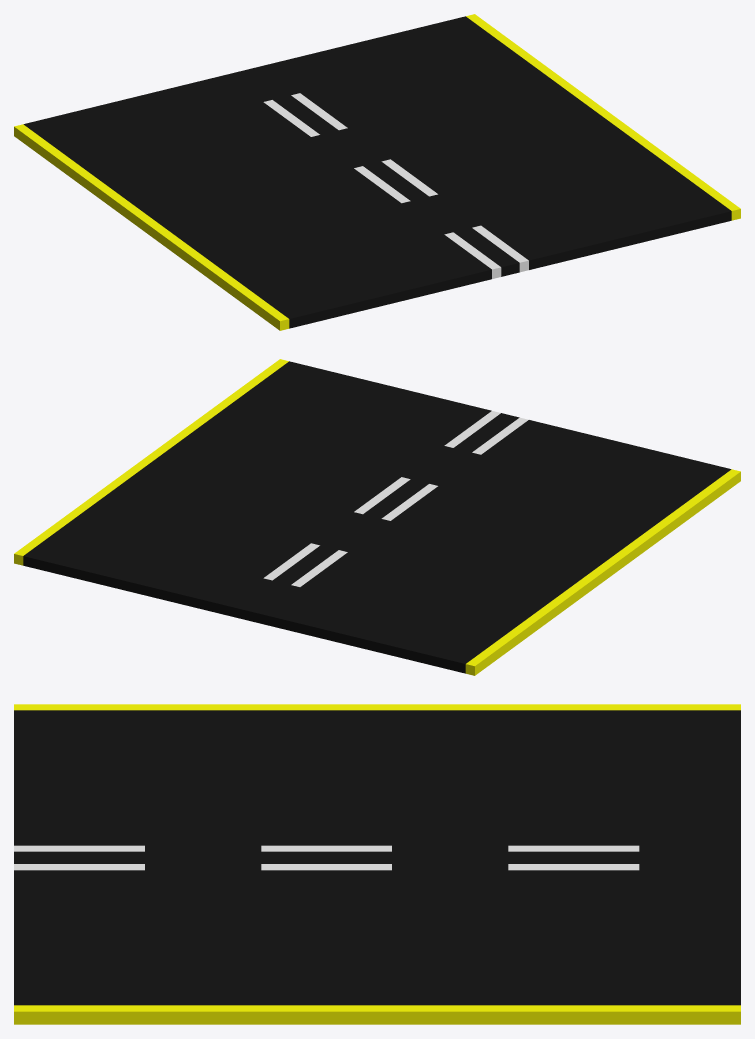
File: road.obj
3 renders of one model, top to bottom at view 1: azimuth 30°, elevation 25°; view 2: azimuth 150°, elevation 25°; view 3: azimuth 270°, elevation 25°, orthographic. The views are drawn at different scales.
Visible parts, largest first — view 1: road; view 2: road; view 3: road.
Boxes of the visible parts, x1,y1,x2,y2 form: road: (14,14,740,330); road: (14,359,740,675); road: (14,704,740,1024).
Bounding box in the file's own units: 50 × 1 × 50.
1 material, 1 textured.
